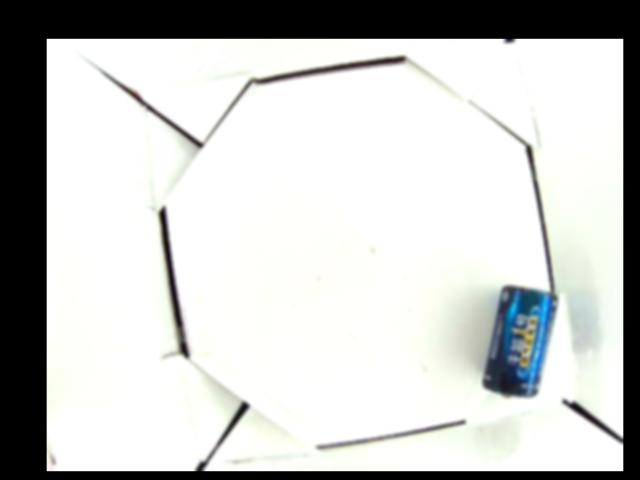Battery: (482, 285, 560, 395)
